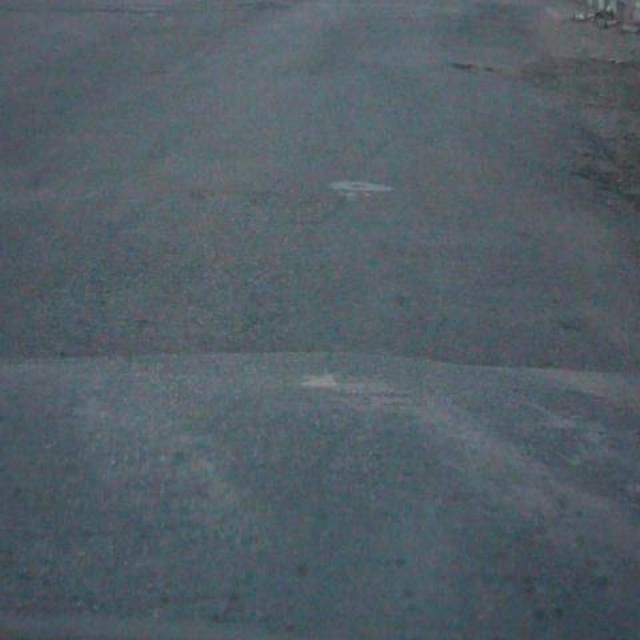Pothole: (568, 122, 640, 221), (570, 44, 640, 76), (447, 56, 502, 78)
Unmarked Bump: (0, 353, 640, 639)
